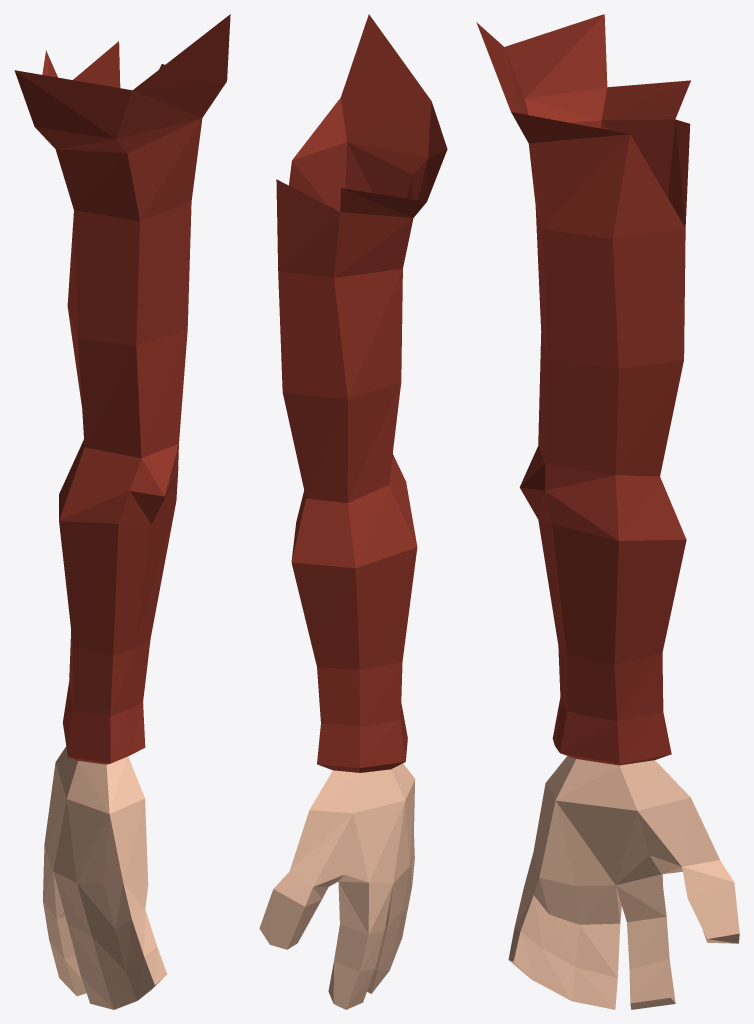
File: ArmL.obj
3 views of the same model, side by side, from view 1: azimuth 30°, elevation 25°; view 2: azimuth 150°, elevation 25°; view 3: azimuth 270°, elevation 25° (orthographic). The views are drawn at different scales.
Bounding box in the file's own units: 0.1573 × 0.9166 × 0.2143.
Materials: 1 (1 with a texture image).
